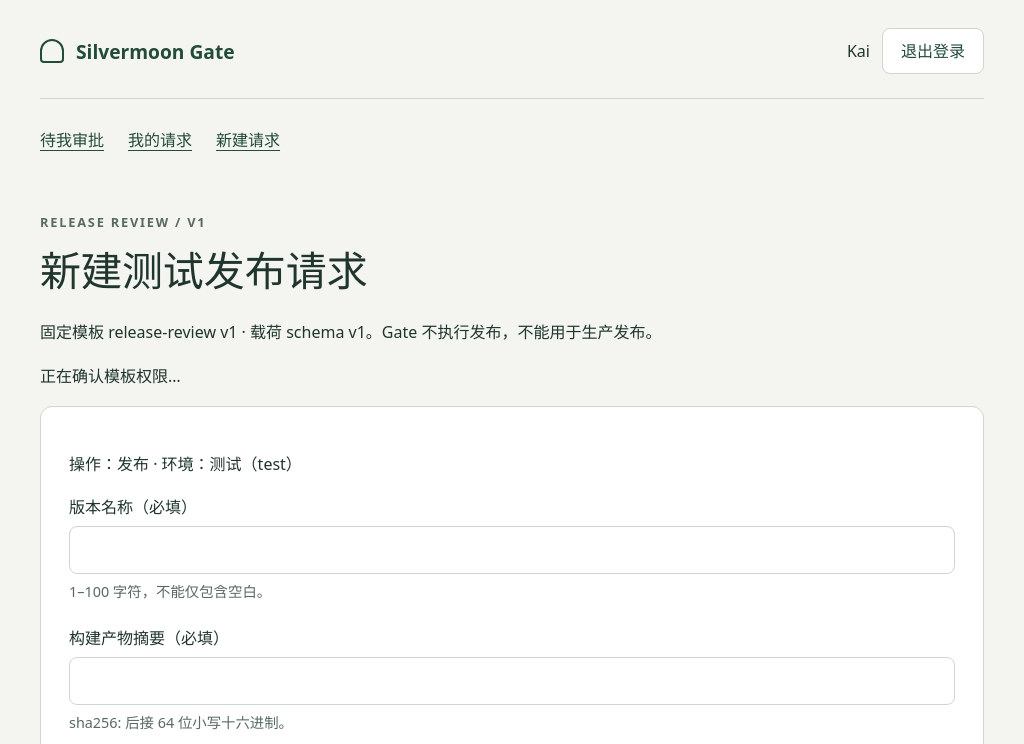
it: immutable creation › explains create conflict without silently changing key or creating another request
This screenshot has width=1024, height=744.
Type "测试版本 1" into the field labelled "版本名称（必填）" at (512, 550), box [69, 526, 955, 574]
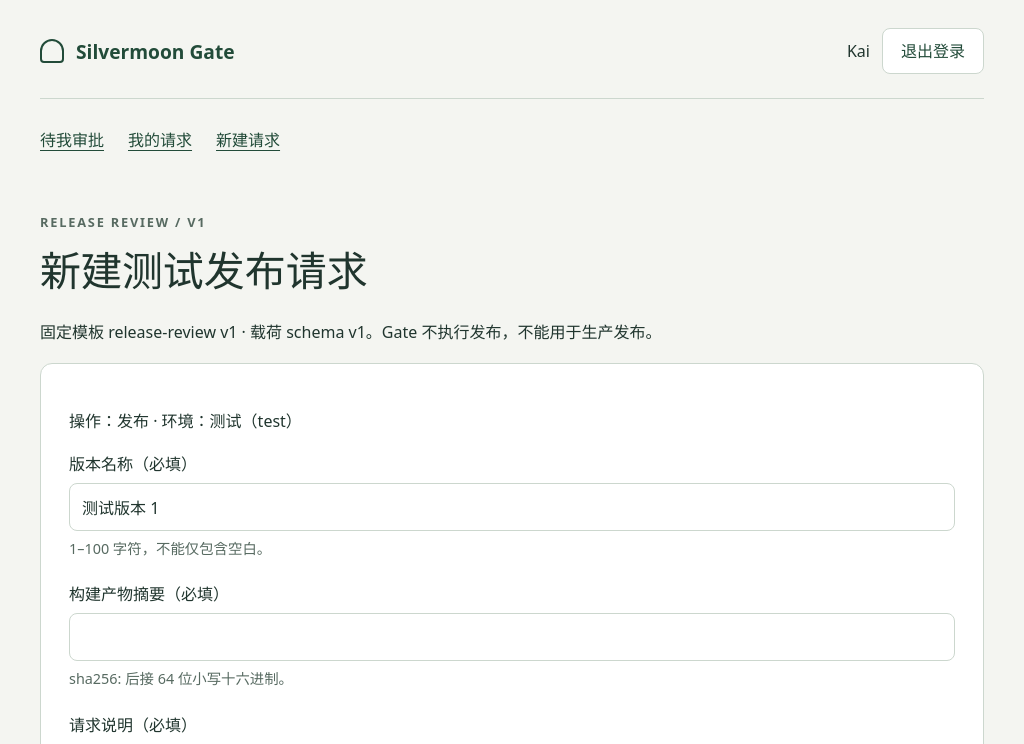
Type "sha256:aaaaaaaaaaaaaaaaaaaaaaaaaaaaaaaaaaaaaaaaaaaaaaaaaaaaaaaaaaaaaaaa" into the field labelled "构建产物摘要（必填）" at (512, 637), box [69, 613, 955, 661]
(page scrolled)
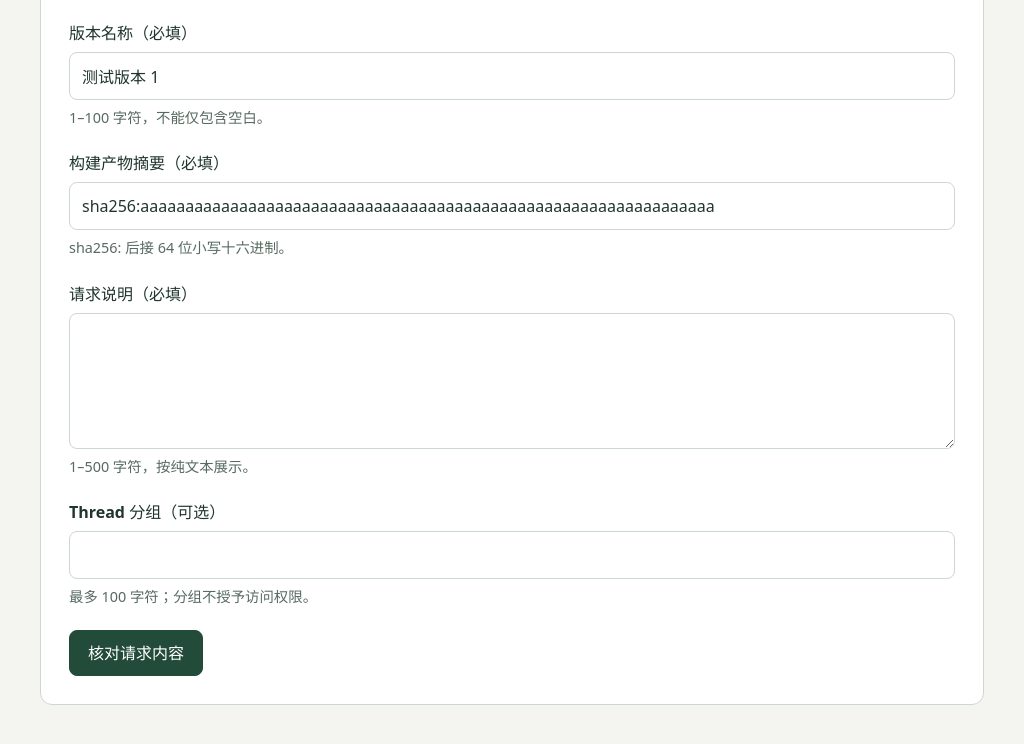
Type "测试发布说明" into the text box labelled "请求说明（必填）" at (512, 381), box [69, 313, 955, 449]
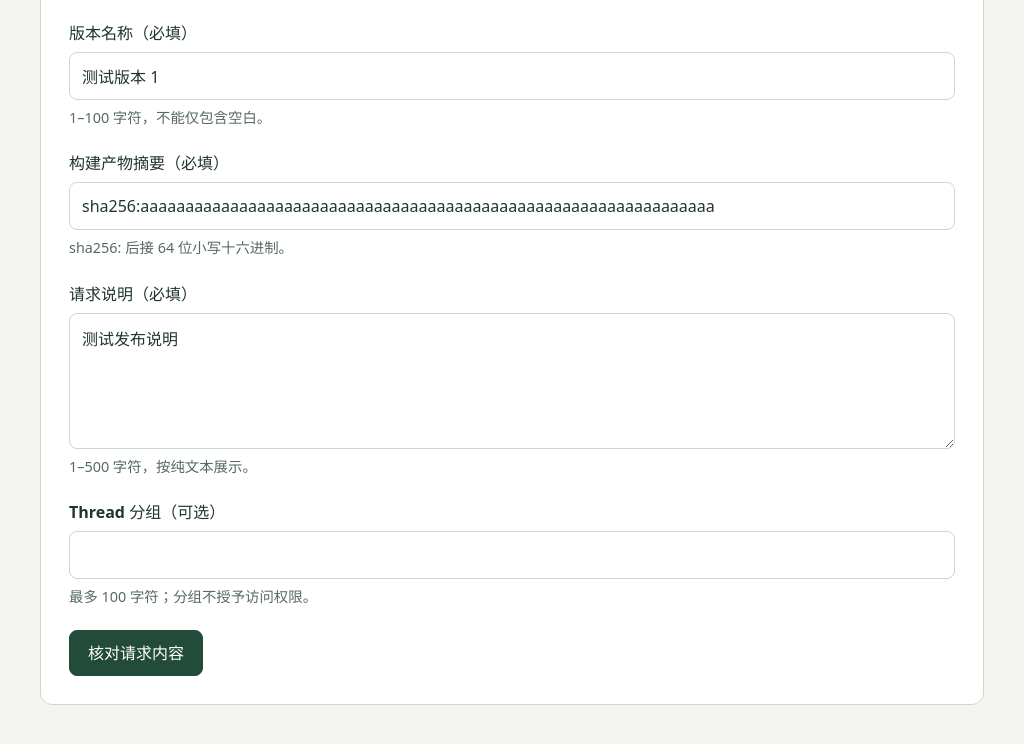
Click the button "核对请求内容" at (136, 653), box [69, 630, 203, 676]
(page scrolled)
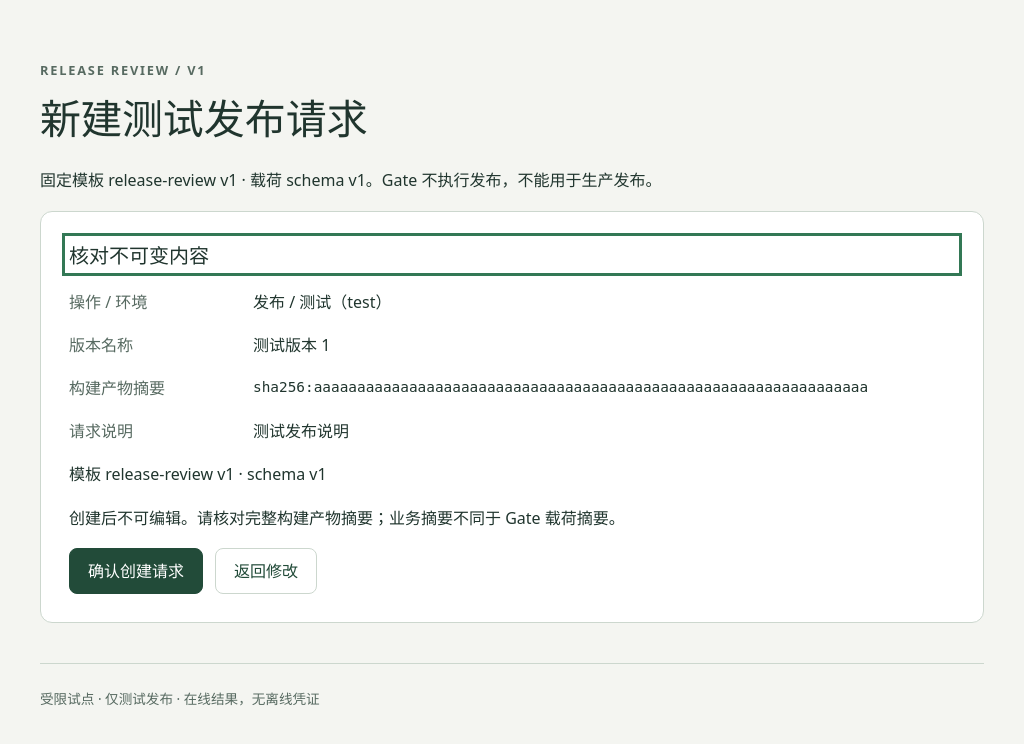
Check: the heading "核对不可变内容" is shown, box [69, 242, 209, 269]
Click the button "确认创建请求" at (136, 571), box [69, 548, 203, 594]
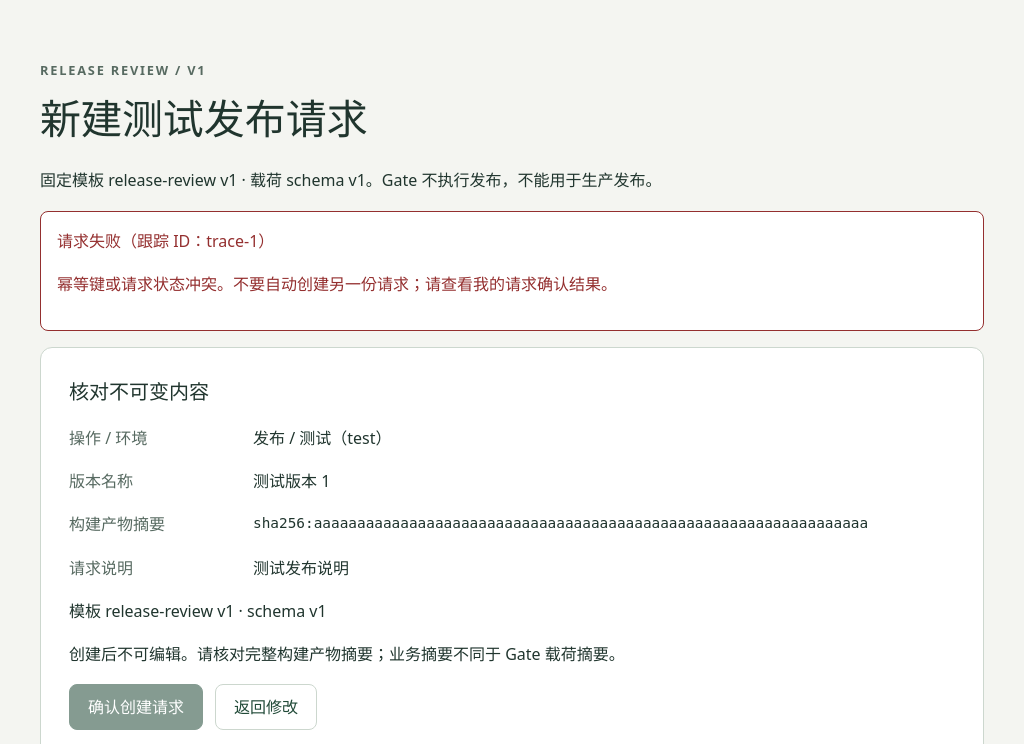
Check: the text "幂等键或请求状态冲突。不要自动创建另一份请求；请查看我的请求确认结果。" is shown, box [57, 273, 617, 295]
Check: the button "确认创建请求" is disabled, box [69, 684, 203, 730]
